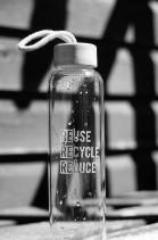glass: (47, 44, 107, 240)
